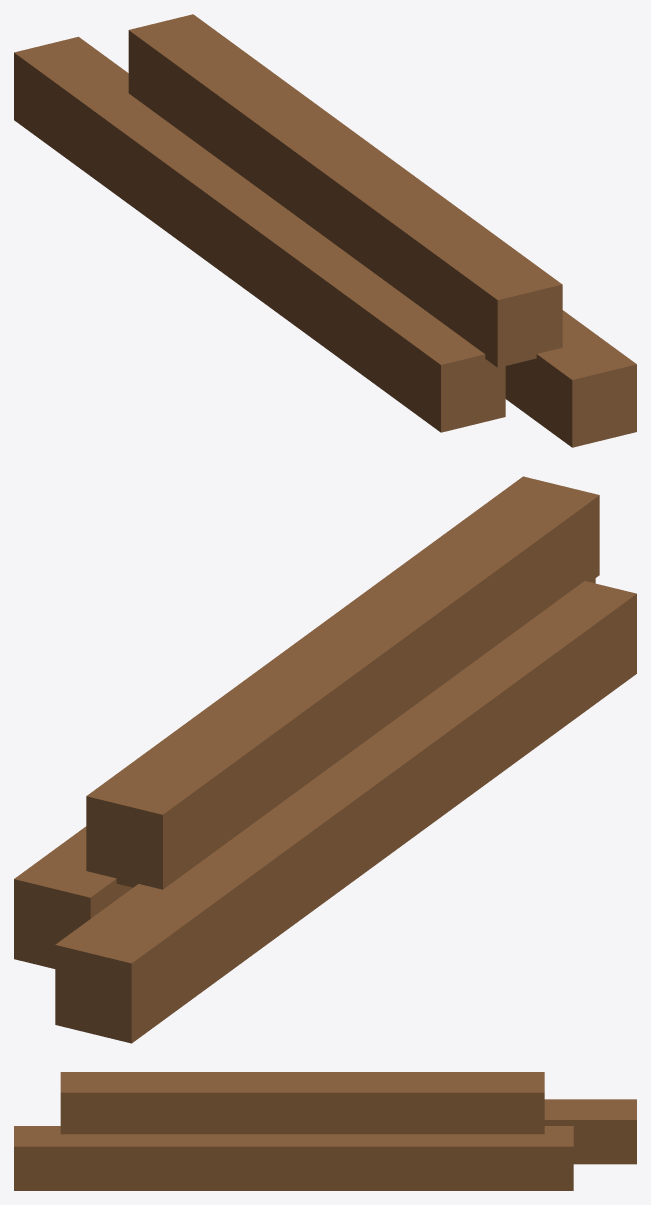
File: wood_bricks_mat.fbx
3 renders of one model, top to bottom at view 1: azimuth 30°, elevation 25°; view 2: azimuth 150°, elevation 25°; view 3: azimuth 270°, elevation 25°, orthographic. The views are drawn at different scales.
Visible parts, largest first — view 1: wood_bricks_mat; view 2: wood_bricks_mat; view 3: wood_bricks_mat.
Part boxes in pixels (left/top/right/bottom): wood_bricks_mat: left=14, top=14, right=636, bottom=447; wood_bricks_mat: left=14, top=476, right=636, bottom=1043; wood_bricks_mat: left=14, top=1072, right=636, bottom=1190.
Size of the model in its own units: 0.3995 by 0.3384 by 2.23.
